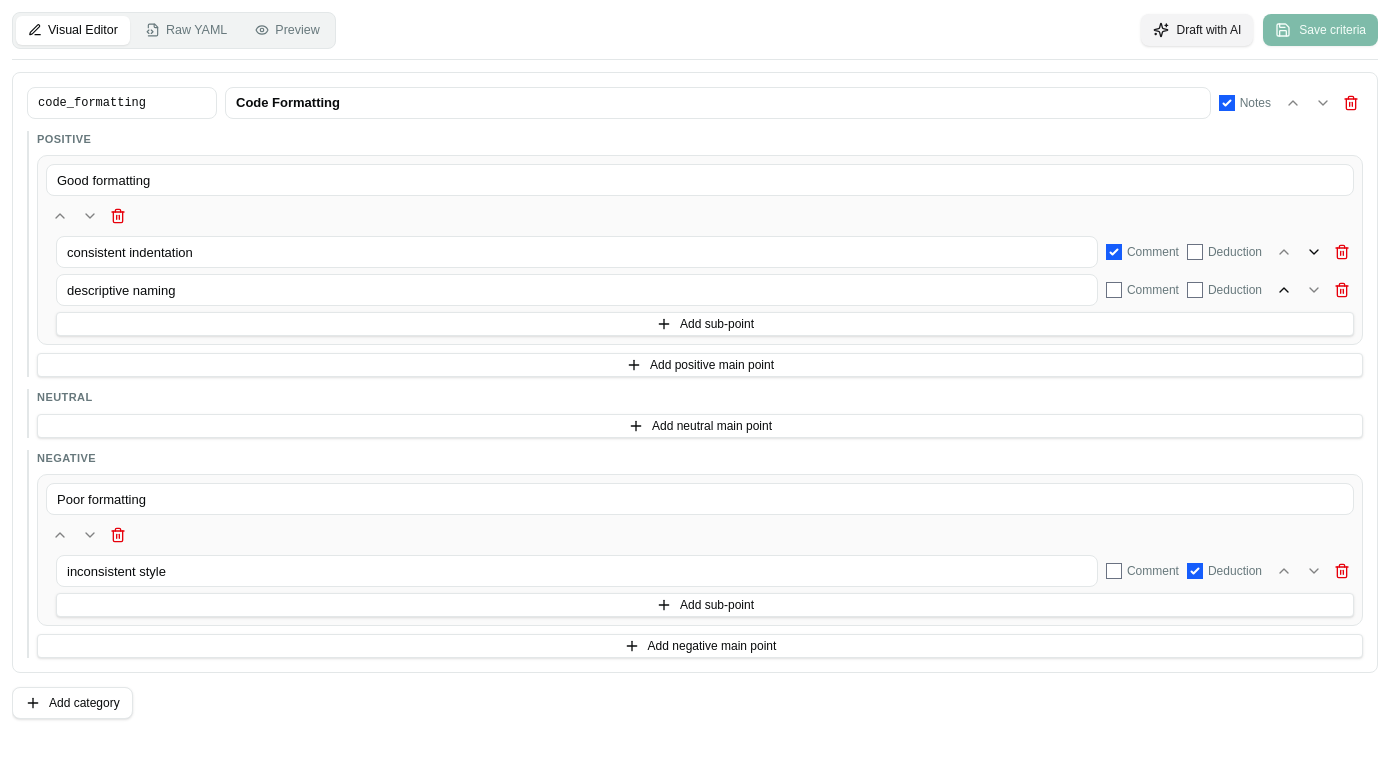
Test case: CriteriaEditorTabs › Draft with AI prefills the editor, marks it dirty, and does NOT auto-save
Click the button "Draft with AI" at (1197, 30), box x1=1141 y1=14 x2=1253 y2=46
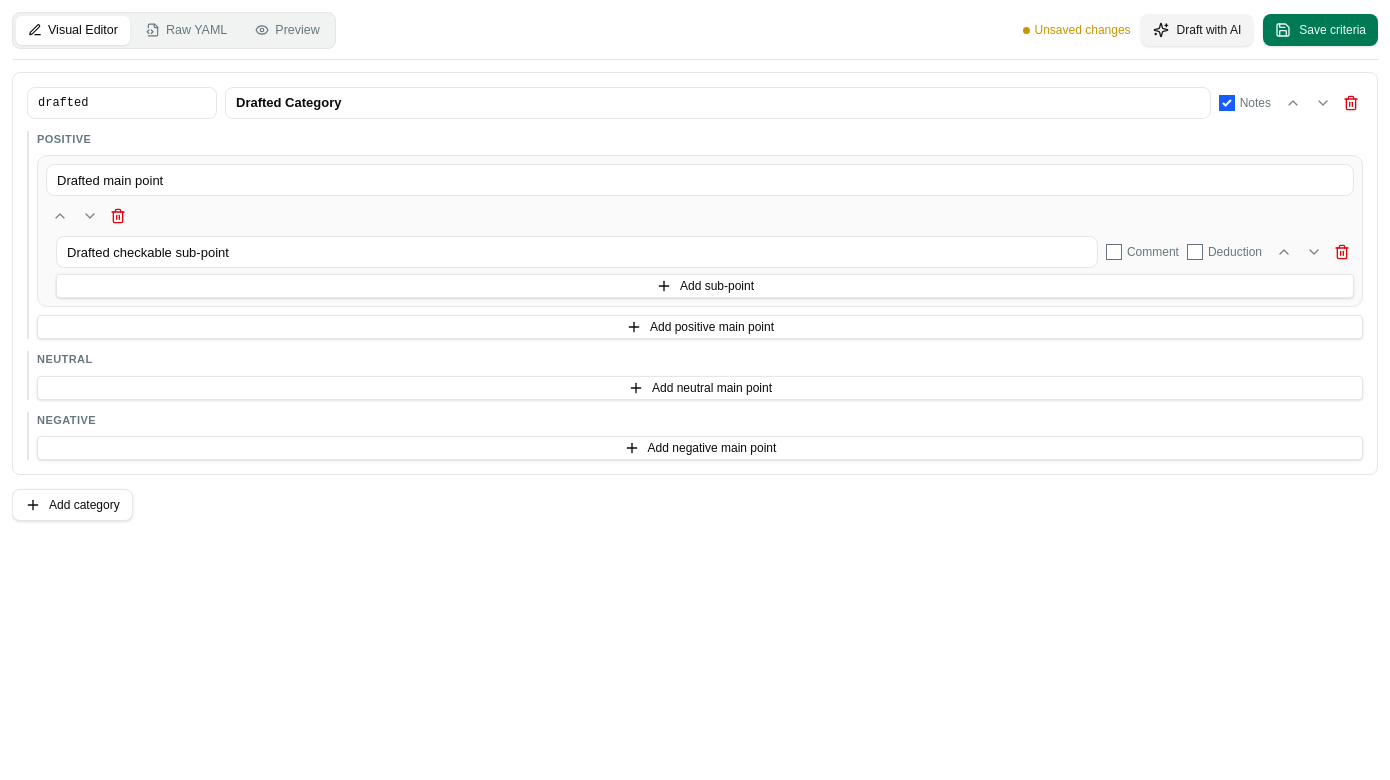
Result: the field showing "Drafted Category" is shown at x1=225 y1=87 x2=1211 y2=119
Result: the field showing "Drafted checkable sub-point" is shown at x1=56 y1=236 x2=1098 y2=268
Result: the text "Unsaved changes" is shown at x1=1022 y1=21 x2=1131 y2=39
